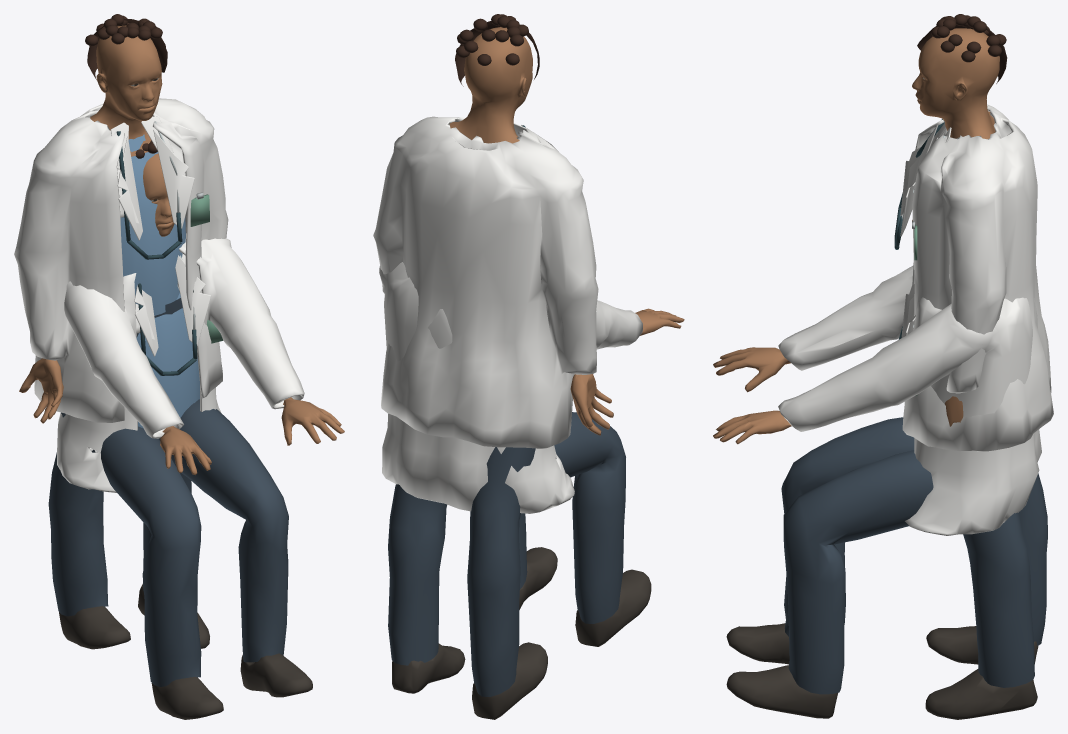
Rendered from doctor-06-middle.glb.
3 views of the same model, side by side, from view 1: azimuth 30°, elevation 25°; view 2: azimuth 150°, elevation 25°; view 3: azimuth 270°, elevation 25° (orthographic). The views are drawn at different scales.
Parts seen in each view (by area): view 1: Doctor anatomy and wardrobe.003, Doctor anatomy and wardrobe.001; view 2: Doctor anatomy and wardrobe.001, Doctor anatomy and wardrobe.003; view 3: Doctor anatomy and wardrobe.003, Doctor anatomy and wardrobe.001.
Part boxes in pixels (<box>): Doctor anatomy and wardrobe.003: <box>57,140,344,719</box>; Doctor anatomy and wardrobe.001: <box>14,14,228,649</box>; Doctor anatomy and wardrobe.001: <box>373,14,613,719</box>; Doctor anatomy and wardrobe.003: <box>379,262,684,646</box>; Doctor anatomy and wardrobe.003: <box>713,220,1041,718</box>; Doctor anatomy and wardrobe.001: <box>894,14,1053,719</box>.
Size of the model in its own units: 0.6209 by 1.8 by 0.8402.
